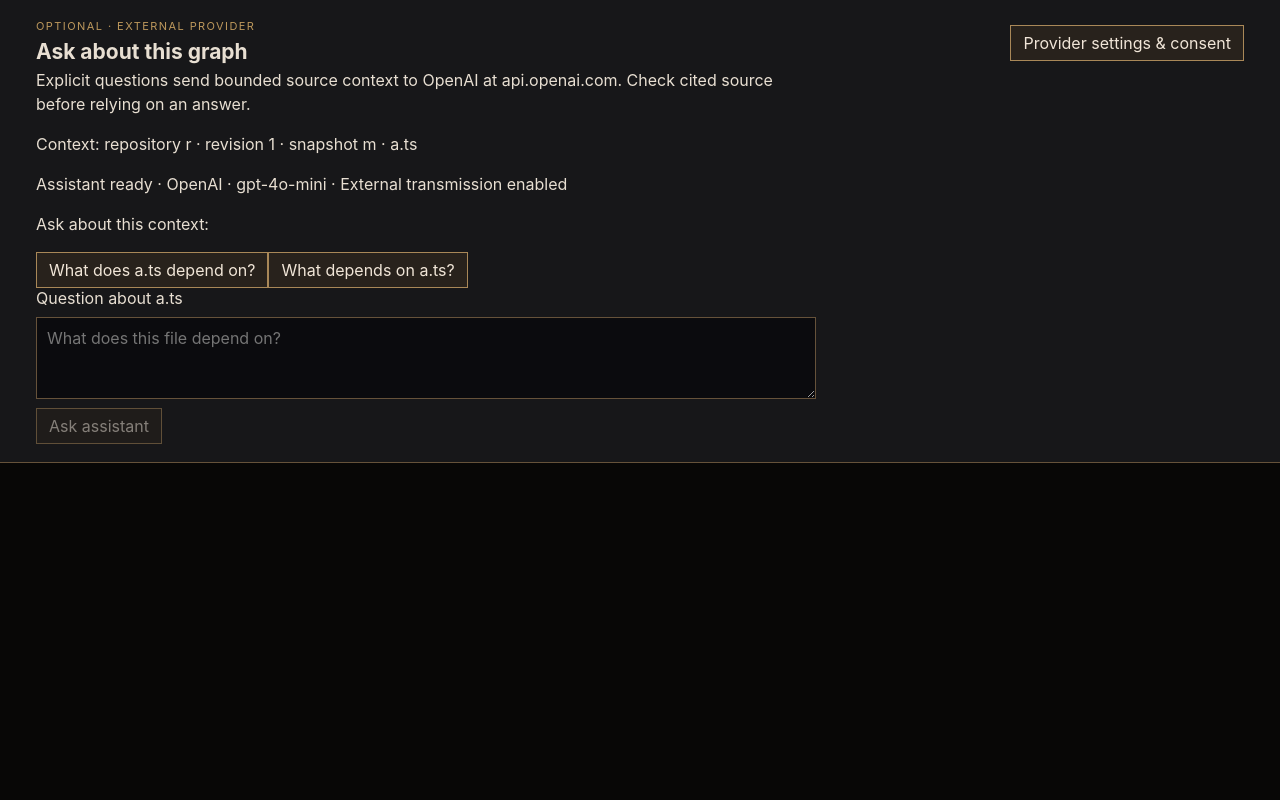
Test: asks only with enabled consent, cancels and refuses stale or unverified citation navigation
Expected: the text "Assistant ready · OpenAI · gpt-4o-mini · External transmission enabled" is shown, [36,174,567,194]
Expected: the text "Context: repository r · revision 1 · snapshot m · a.ts" is shown, [36,134,417,154]
Click the button "What does a.ts depend on?" at (152, 270), box [36,252,268,288]
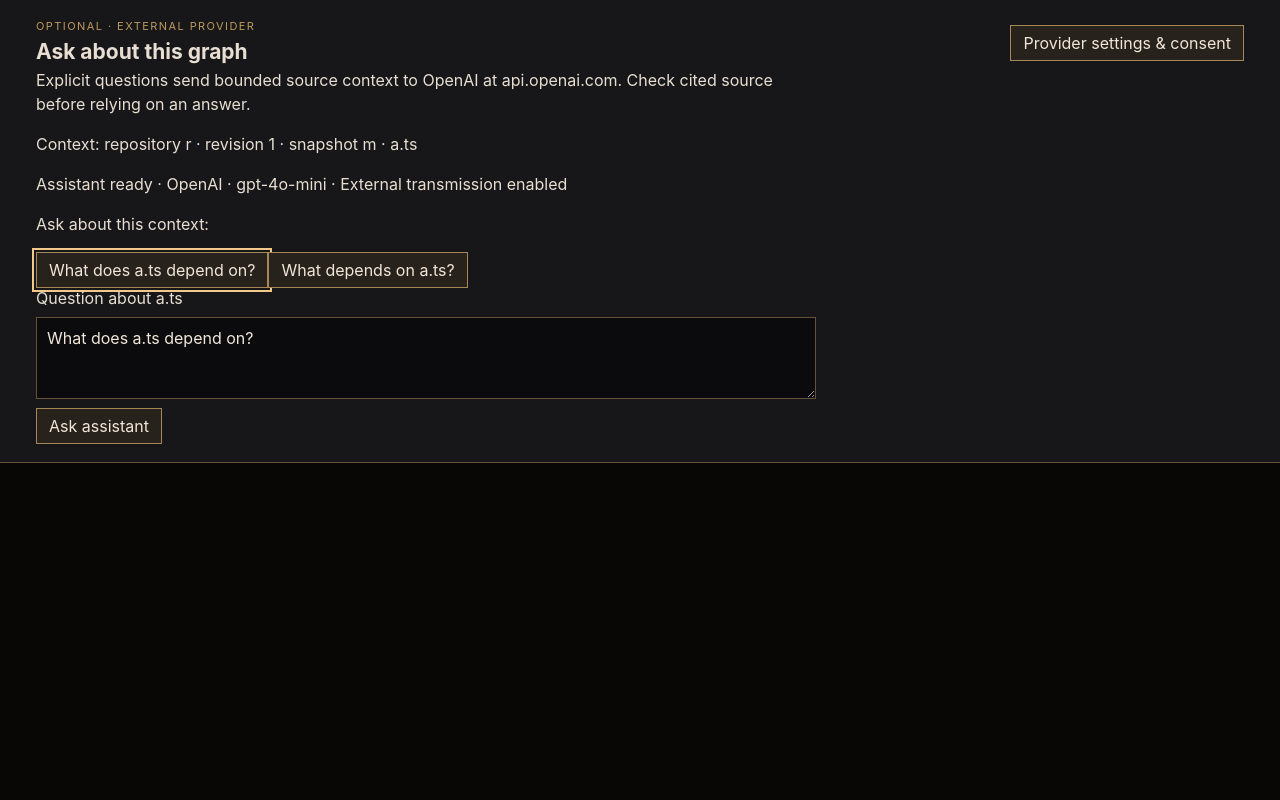
Now the text box labelled "Question about a.ts" holds "What does a.ts depend on?"
Replace the text in the text box labelled "Question about a.ts" with "What is this?" at (426, 358), box [36,316,816,398]
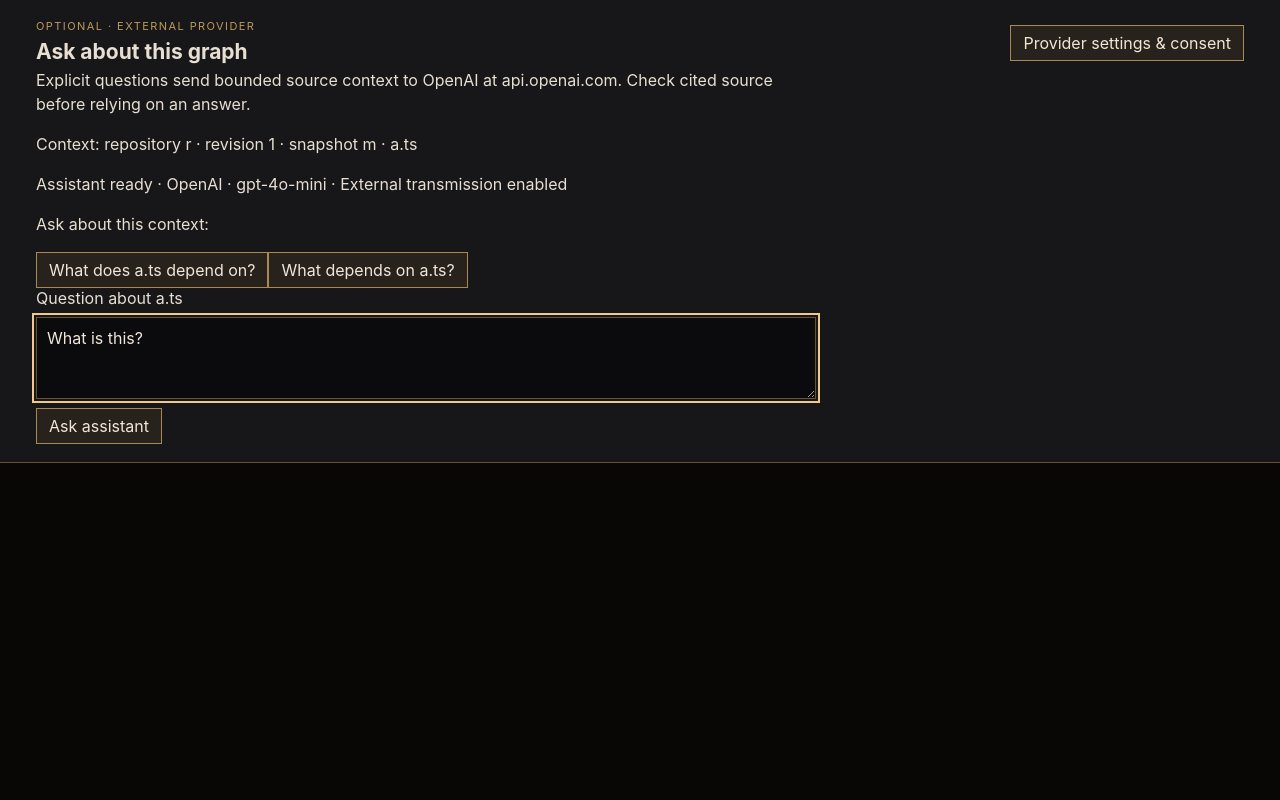
Click the button "Ask assistant" at (99, 426), box [36,408,162,444]
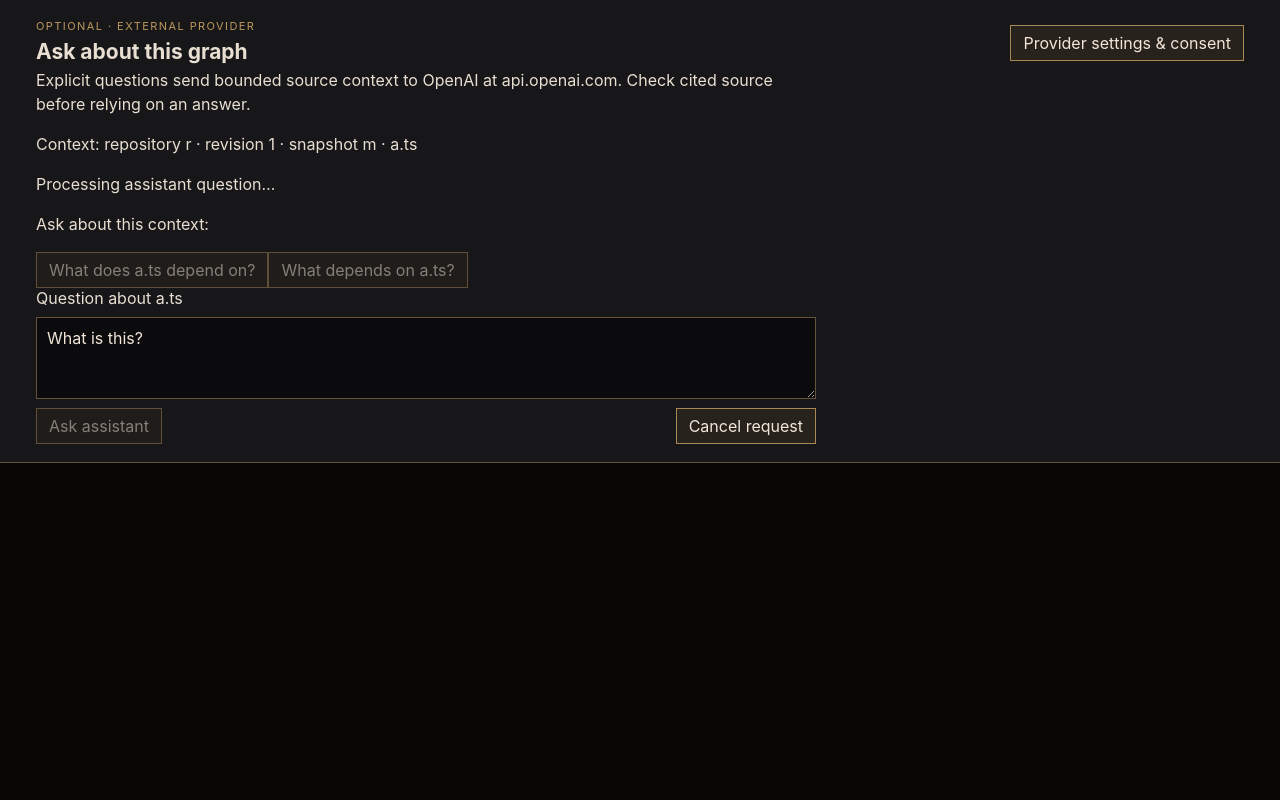
Click the button "Cancel request" at (746, 426), box [676,408,816,444]
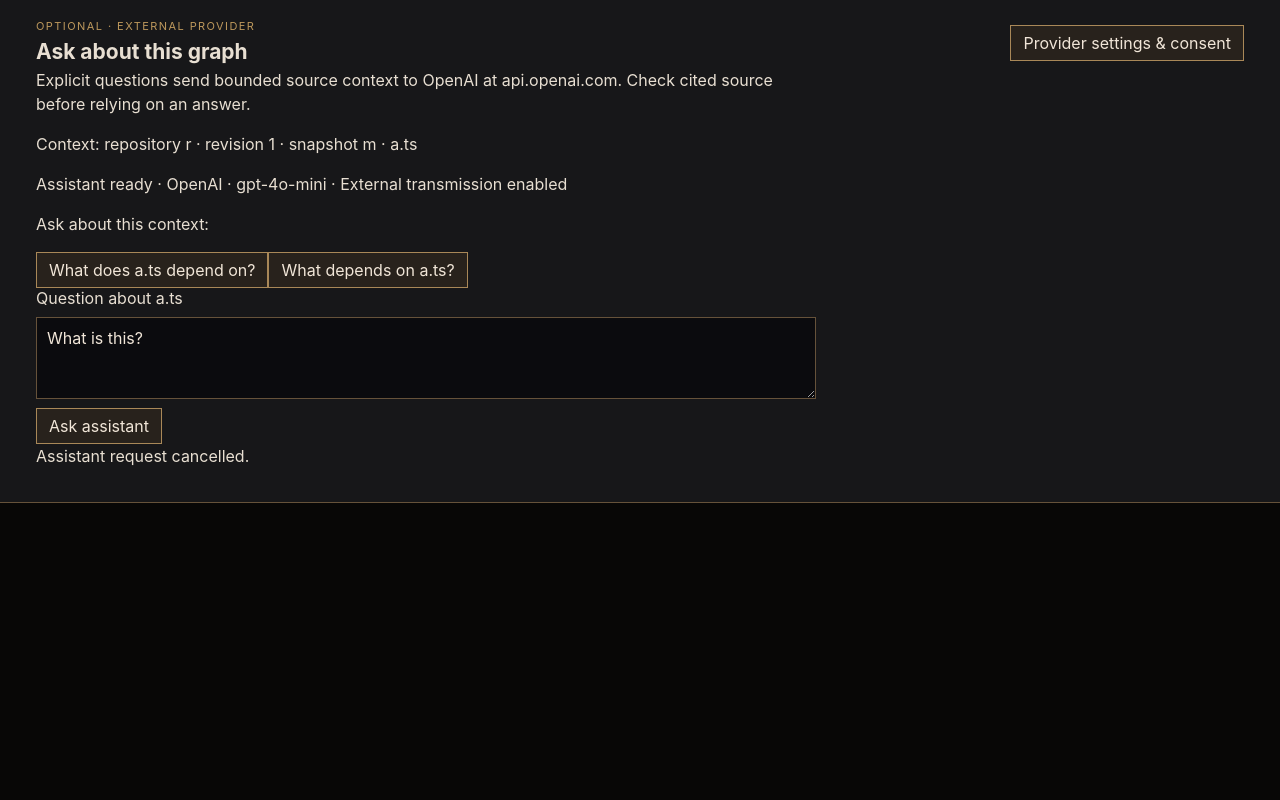
Click the button "Ask assistant" at (99, 426), box [36,408,162,444]
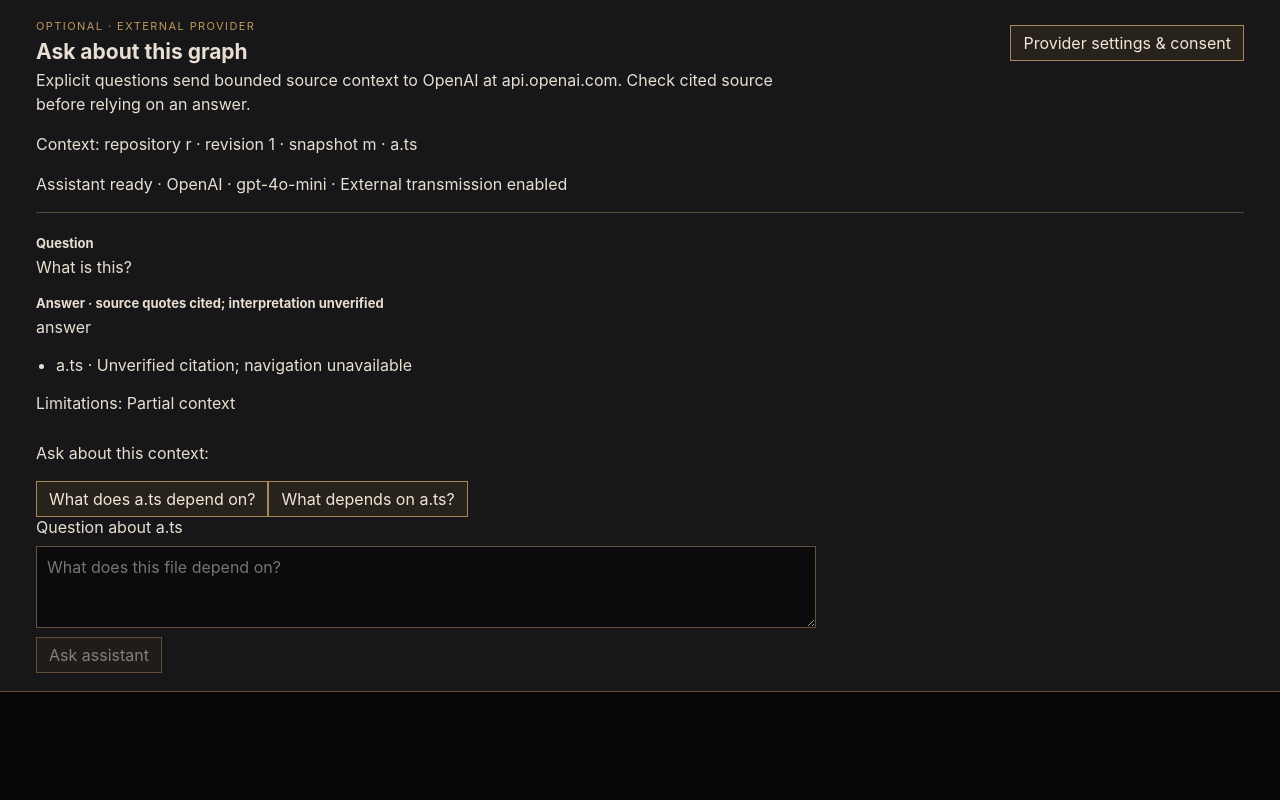
Now the text "answer" is shown, box [36,316,91,336]
Now the text "a.ts · Unverified citation; navigation unavailable" is shown, box [56,354,412,374]
